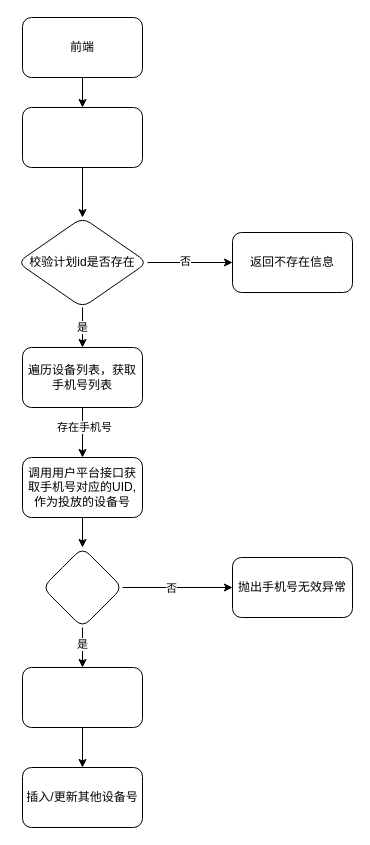
The diagram is 370 pixels wide and 845 high, and some of its shapes have lost their labels. Each missing label, with the box of its shape:
UID是否存在: (42, 546, 122, 628)
删除表里面页面提交的不存在的设备号: (22, 666, 142, 728)
根据设备列表是否存在逗号，进去切分: (22, 106, 142, 168)
